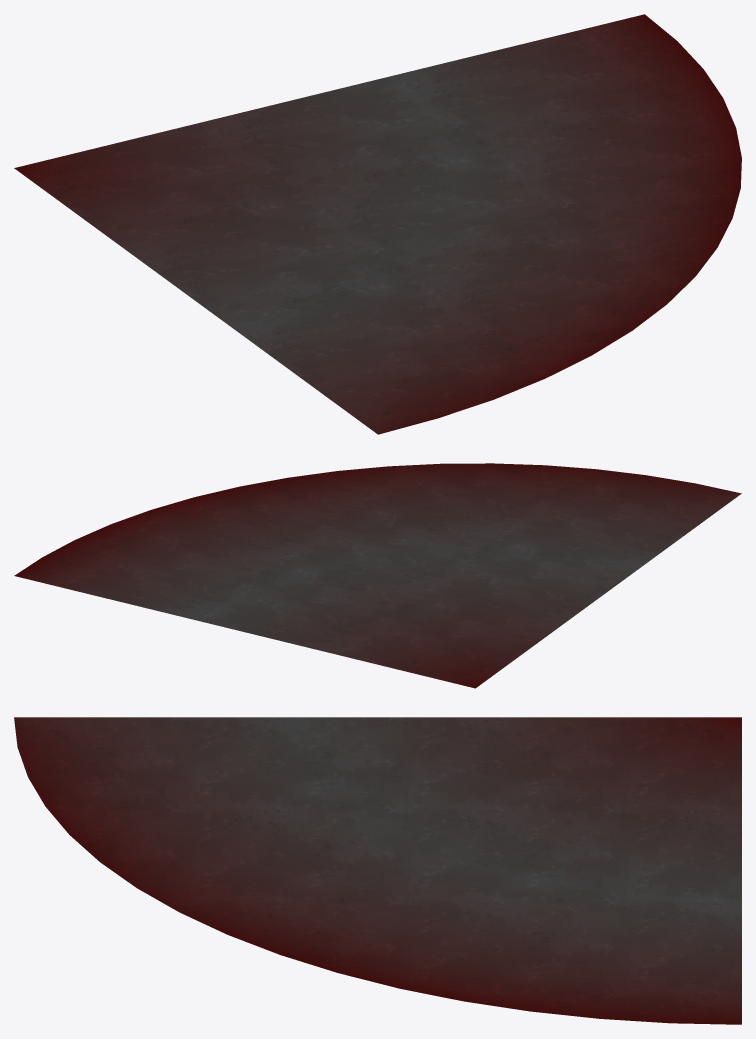
File: q-downtown-street-asphalt-curve-2lane.glb
3 renders of one model, top to bottom at view 1: azimuth 30°, elevation 25°; view 2: azimuth 150°, elevation 25°; view 3: azimuth 270°, elevation 25°, orthographic. The views are drawn at different scales.
Visible parts, largest first — view 1: Street_Asphalt_Curve_2Lane; view 2: Street_Asphalt_Curve_2Lane; view 3: Street_Asphalt_Curve_2Lane.
Boxes of the visible parts, x1,y1,x2,y2 form: Street_Asphalt_Curve_2Lane: [14, 14, 741, 434]; Street_Asphalt_Curve_2Lane: [14, 463, 741, 688]; Street_Asphalt_Curve_2Lane: [14, 717, 741, 1024].
Size of the model in its own units: 10 by 0 by 10.
1 material, 1 textured.
